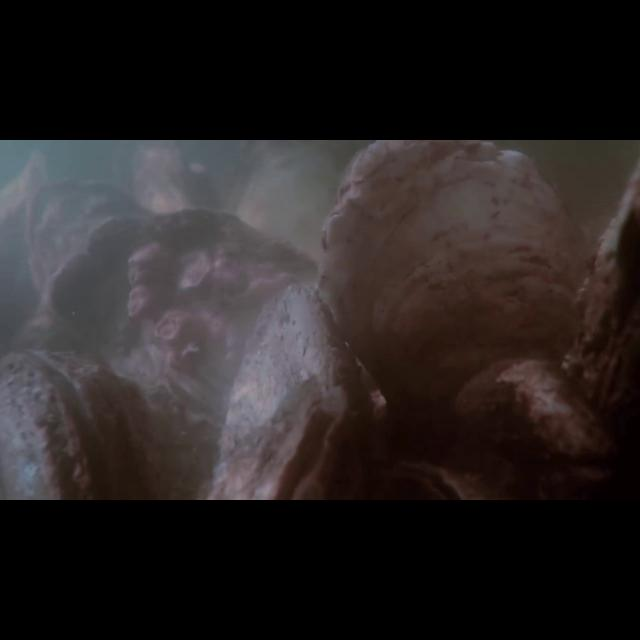Oyster-Closed: (10, 208, 322, 500), (315, 142, 591, 455), (206, 279, 366, 500), (452, 354, 640, 500), (22, 171, 147, 292), (218, 149, 344, 254), (125, 149, 216, 204), (394, 460, 496, 500)
Oyster-Open: (6, 346, 170, 497)
